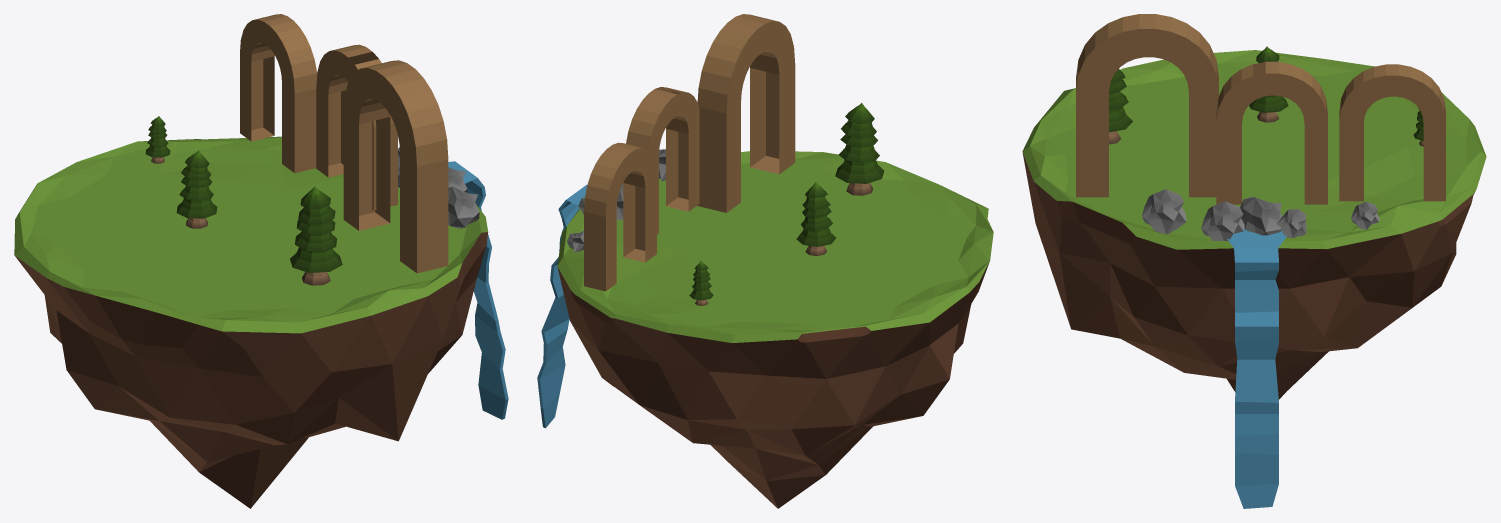
File: Isla.glb
3 renders of one model, left to right at view 1: azimuth 30°, elevation 25°; view 2: azimuth 150°, elevation 25°; view 3: azimuth 270°, elevation 25°, orthographic. The views are drawn at different scales.
Parts seen in each view (by area): view 1: Isla, Cubo, Agua, Arbol, Arbol.001, Roca 2.001, Arbol.002; view 2: Isla, Cubo, Agua, Arbol, Arbol.001, Arbol.002; view 3: Isla, Cubo, Agua, Roca 2.001, Roca 3, Roca 2, Arbol, Arbol.001, Roca 1, Roca 2.002.
Boxes of the visible parts, x1=… form: Isla: x1=14, y1=136, x2=488, y2=508; Cubo: x1=240, y1=14, x2=448, y2=273; Agua: x1=448, y1=161, x2=508, y2=419; Arbol: x1=290, y1=186, x2=342, y2=285; Arbol.001: x1=176, y1=150, x2=217, y2=228; Roca 2.001: x1=448, y1=186, x2=479, y2=228; Arbol.002: x1=145, y1=116, x2=170, y2=163; Isla: x1=557, y1=151, x2=993, y2=508; Cubo: x1=584, y1=14, x2=795, y2=291; Agua: x1=537, y1=185, x2=587, y2=428; Arbol: x1=835, y1=103, x2=884, y2=195; Arbol.001: x1=796, y1=182, x2=835, y2=255; Arbol.002: x1=689, y1=261, x2=713, y2=305; Isla: x1=1022, y1=50, x2=1486, y2=399; Cubo: x1=1076, y1=14, x2=1445, y2=204; Agua: x1=1227, y1=228, x2=1286, y2=508; Roca 2.001: x1=1142, y1=189, x2=1186, y2=234; Roca 3: x1=1240, y1=196, x2=1282, y2=235; Roca 2: x1=1201, y1=201, x2=1244, y2=240; Arbol: x1=1109, y1=69, x2=1132, y2=144; Arbol.001: x1=1249, y1=46, x2=1288, y2=122; Roca 1: x1=1276, y1=209, x2=1306, y2=238; Roca 2.002: x1=1351, y1=201, x2=1379, y2=229.
Bounding box in the file's own units: 23.1 × 22.29 × 21.03.
Materials: 7 (6 with a texture image).
